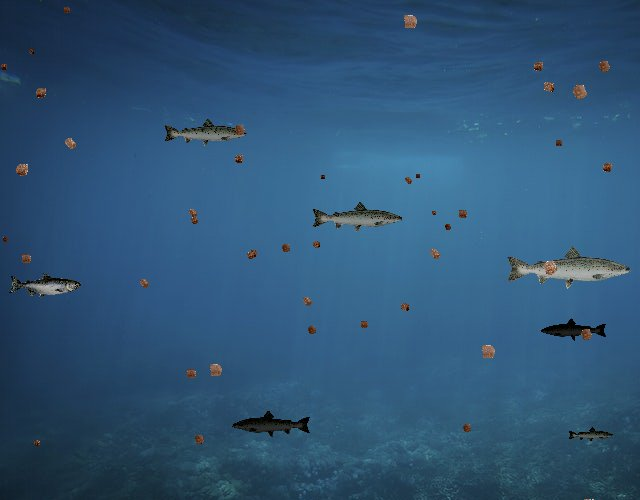Fish: (504, 244, 633, 290), (310, 201, 404, 234), (162, 117, 248, 148), (232, 410, 313, 439), (9, 273, 82, 299), (541, 317, 609, 342), (568, 426, 615, 443)
Pellet: (58, 131, 83, 156), (457, 419, 476, 438), (30, 436, 44, 450), (25, 45, 37, 57)
